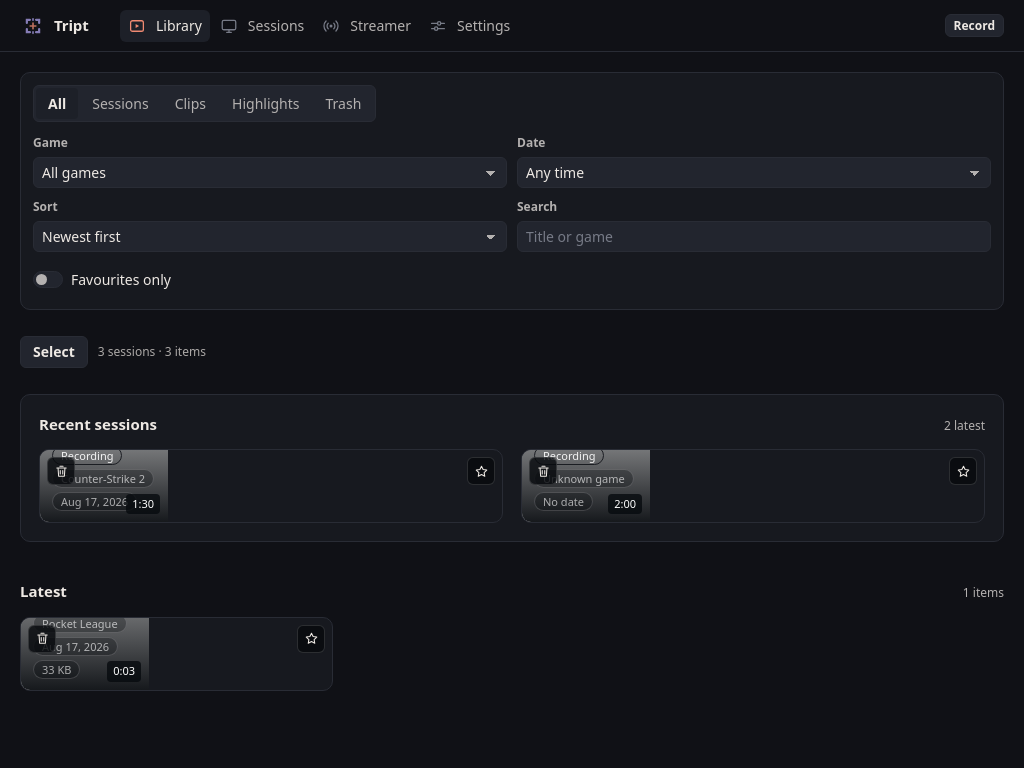
Test: App shell › renders the nav and switches views
Expected: the button "Library" is shown, [120,10,210,42]
Expected: the button with aria-label "Open Session 1" is shown, [521,449,985,523]
Step 1. Click the button "Settings" → {"x": 470, "y": 26}, box [421,10,518,42]
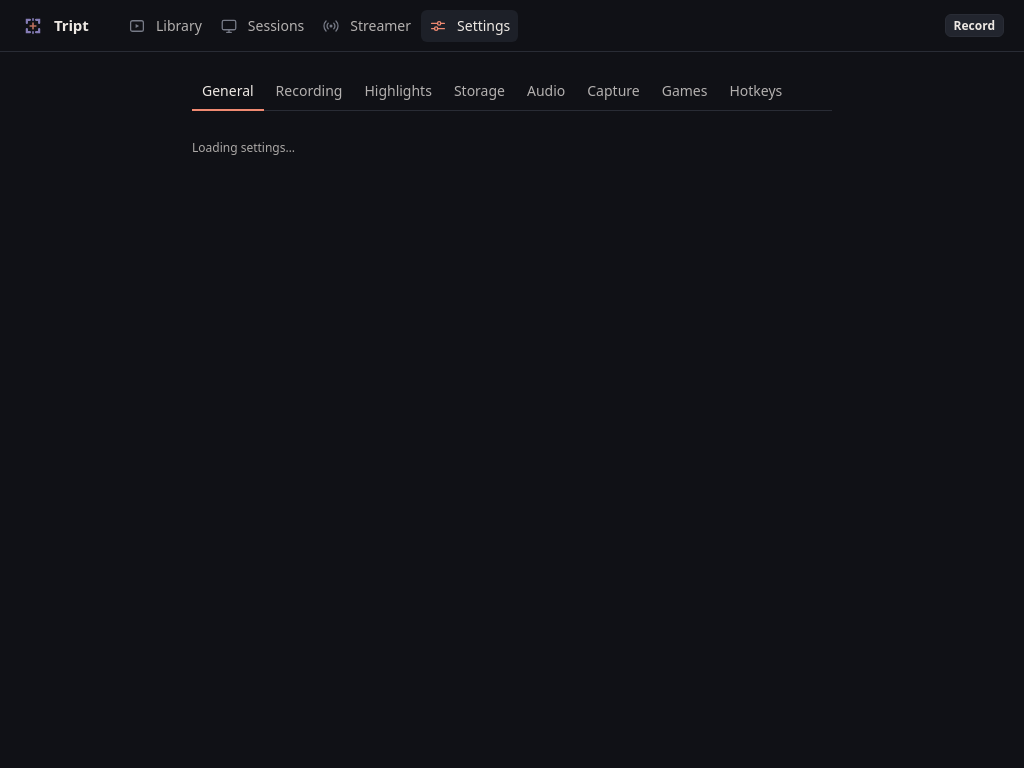
Expected: the tab "Recording" is shown, [266,72,352,111]
Step 2. Click the button "Library" → {"x": 165, "y": 26}, box [120,10,210,42]
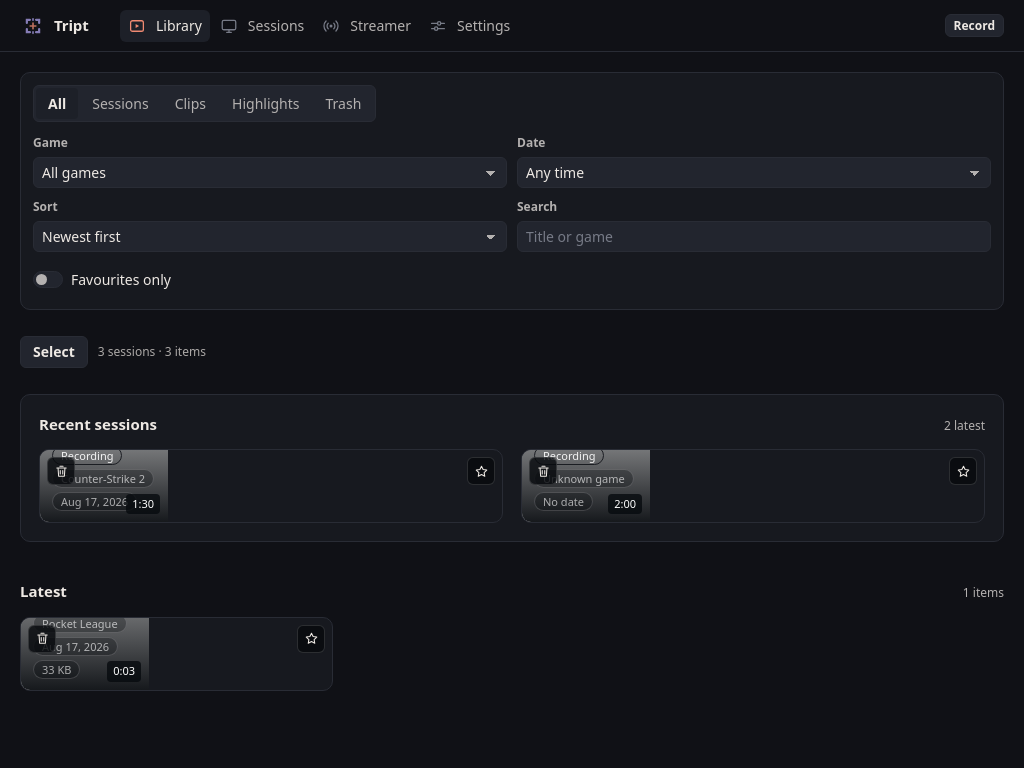
Expected: the element with test id "library-groups" is shown, [20,394,1004,690]
